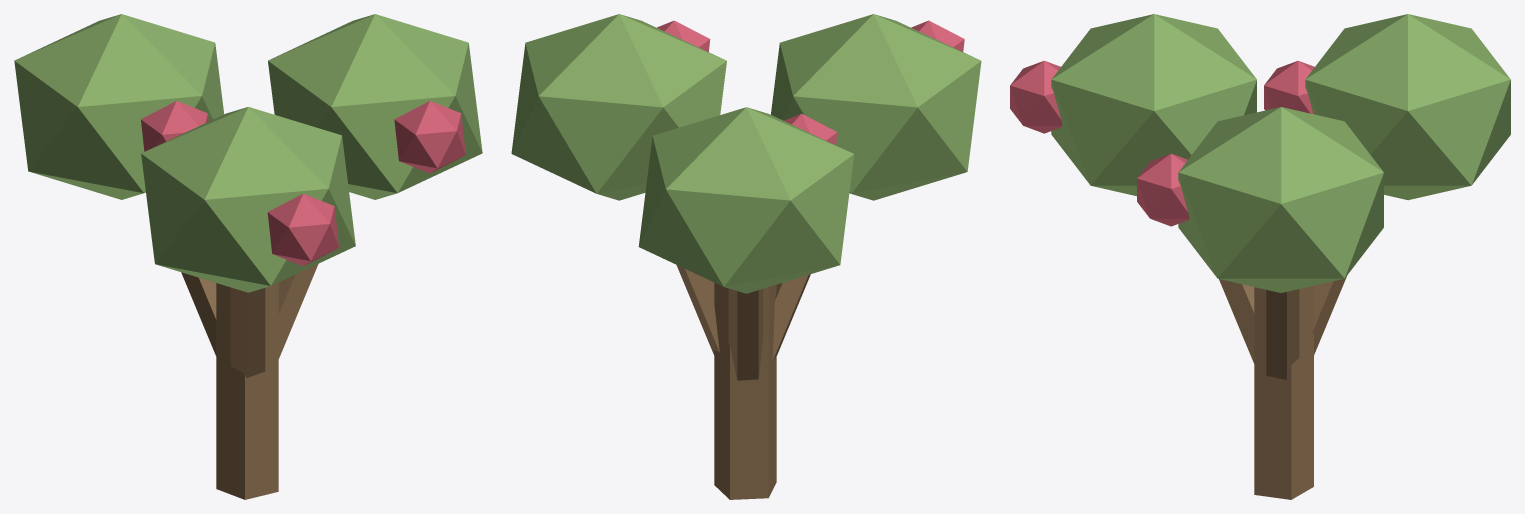
Rendered from plant_berry_bush_ripe.glb.
3 views of the same model, side by side, from view 1: azimuth 30°, elevation 25°; view 2: azimuth 150°, elevation 25°; view 3: azimuth 270°, elevation 25° (orthographic).
Parts seen in each view (by area): view 1: plant_berry_bush_ripe; view 2: plant_berry_bush_ripe; view 3: plant_berry_bush_ripe.
Part boxes in pixels (bbox=[...]): plant_berry_bush_ripe: bbox=[14, 14, 482, 499]; plant_berry_bush_ripe: bbox=[511, 14, 981, 499]; plant_berry_bush_ripe: bbox=[1010, 14, 1510, 499].
Bounding box in the file's own units: 0.5952 × 0.6653 × 0.6836.
